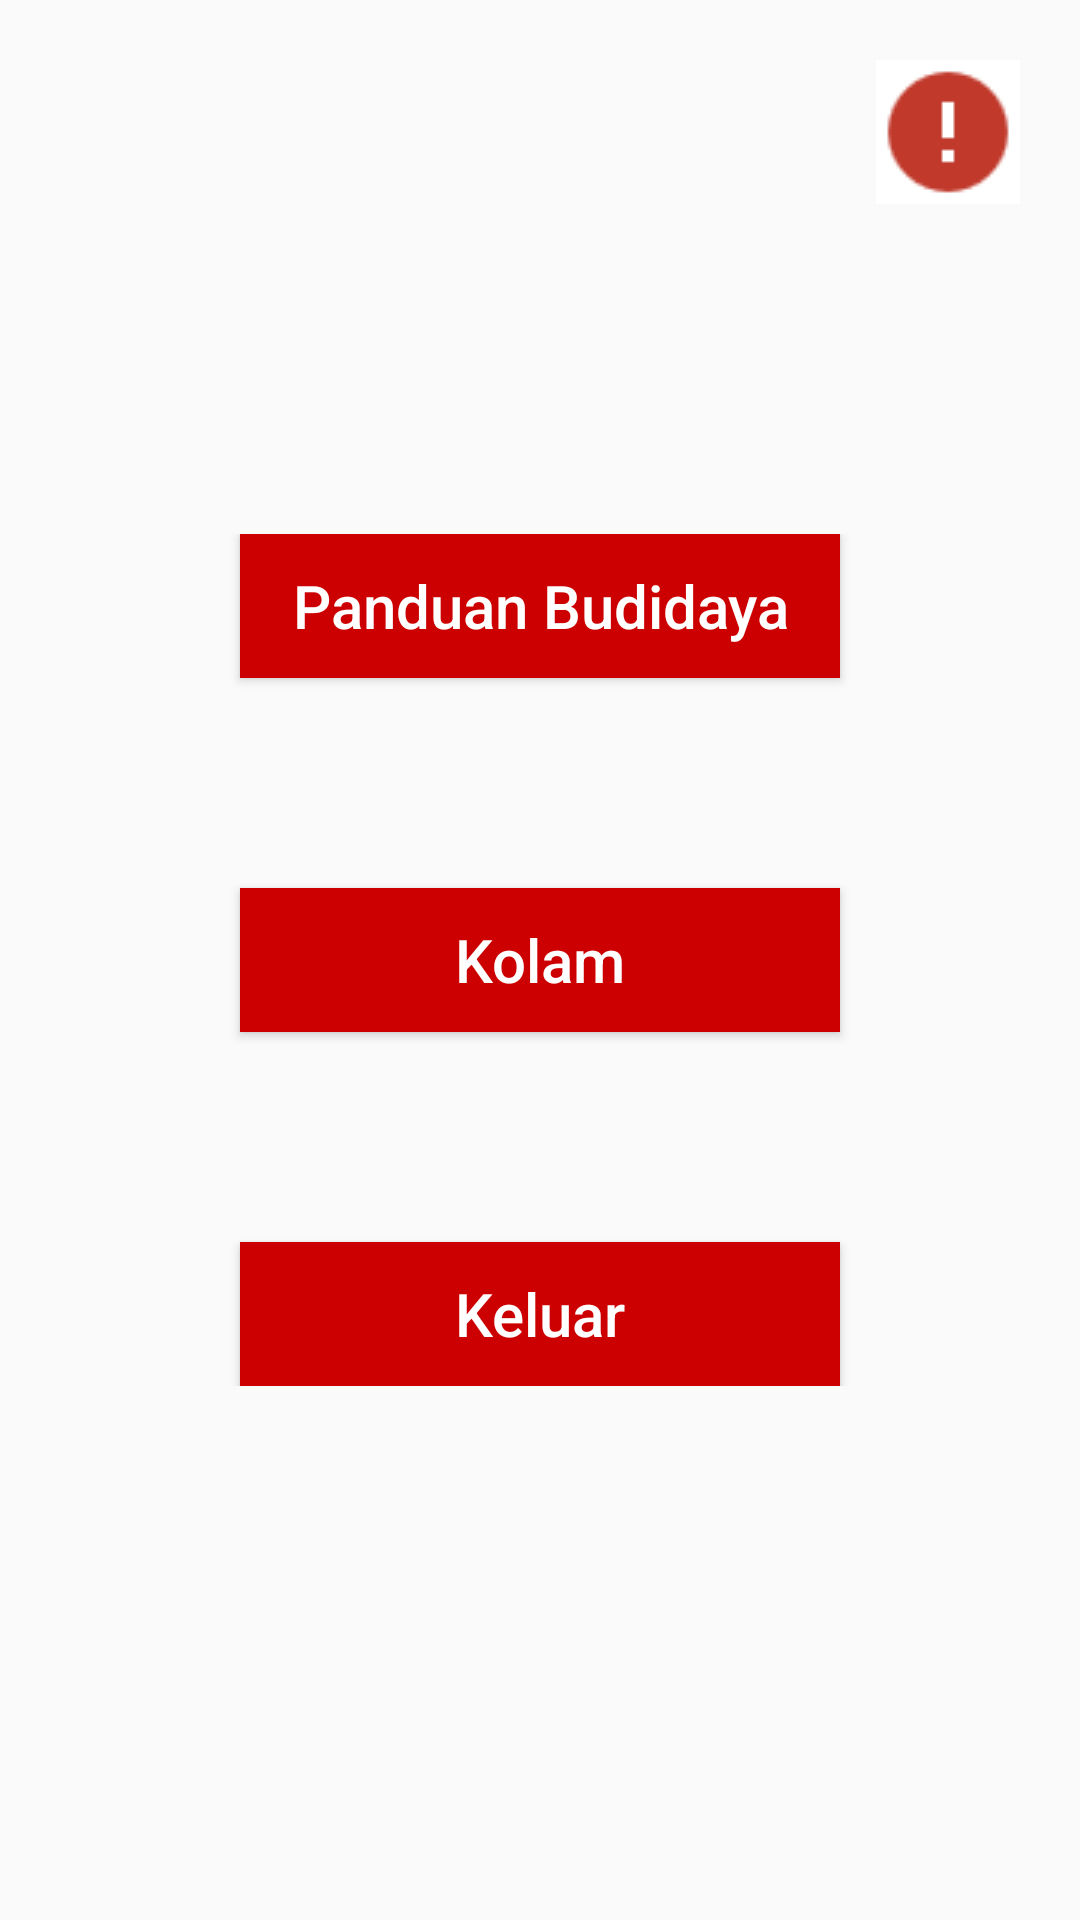

Point at icon controls on the screen. Image size 1080*1920, points as (x,y).
importance: (948,132)
